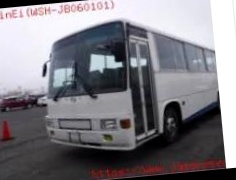bus: (33, 6, 224, 161)
